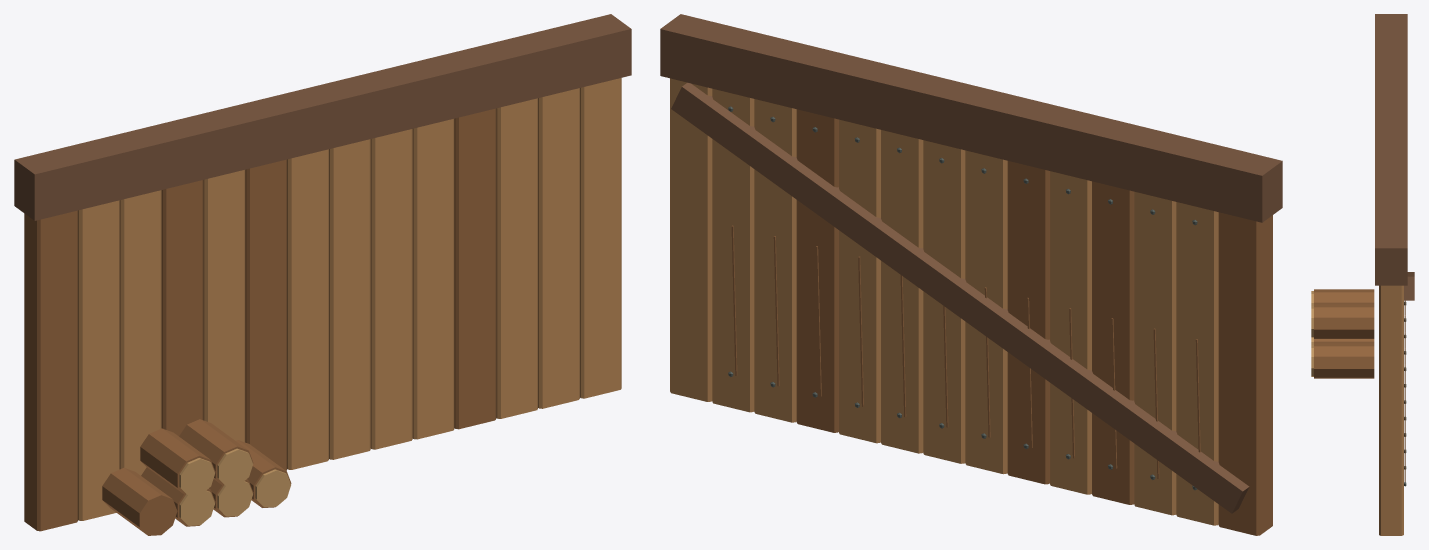
Rendered from wood_back.glb.
3 views of the same model, side by side, from view 1: azimuth 30°, elevation 25°; view 2: azimuth 150°, elevation 25°; view 3: azimuth 270°, elevation 25° (orthographic). The views are drawn at different scales.
Parts seen in each view (by area): view 1: wood_back; view 2: wood_back; view 3: wood_back.
Boxes of the visible parts, left/top/right/bottom form: wood_back: left=14, top=14, right=631, bottom=535; wood_back: left=660, top=14, right=1282, bottom=535; wood_back: left=1311, top=14, right=1414, bottom=535.
Bounding box in the file's own units: 0.644 × 0.372 × 0.12.
